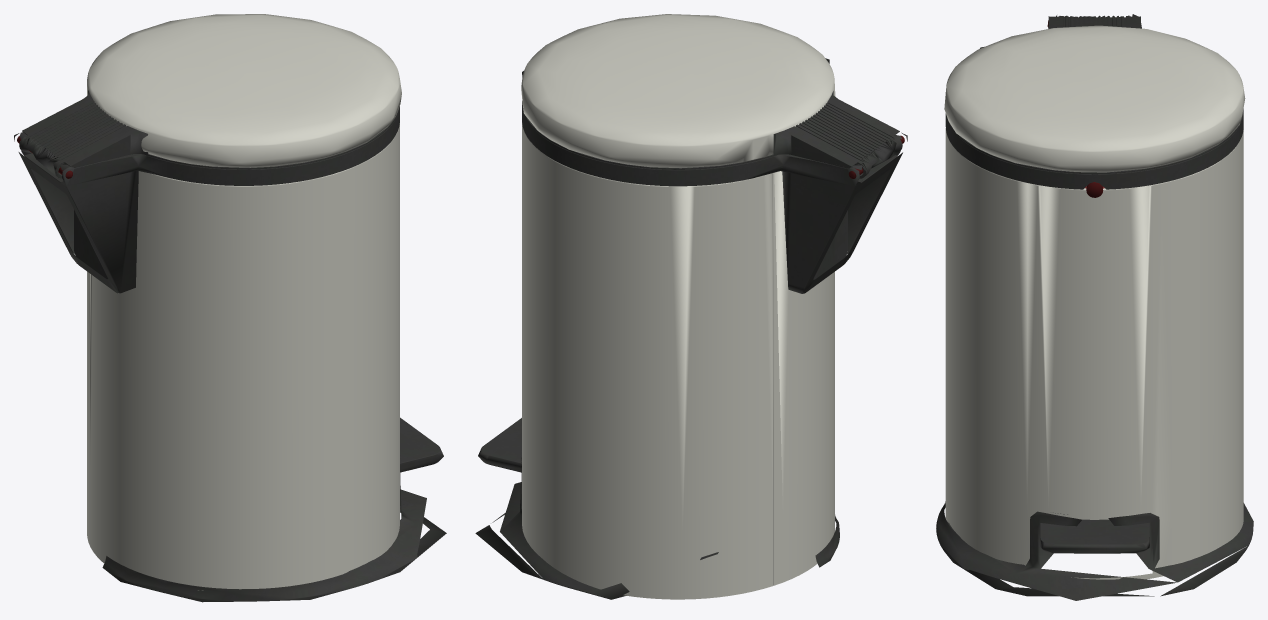
The model's file is bin_waste_a01.glb.
3 renders of one model, left to right at view 1: azimuth 30°, elevation 25°; view 2: azimuth 150°, elevation 25°; view 3: azimuth 270°, elevation 25°, orthographic. The views are drawn at different scales.
Parts seen in each view (by area): view 1: sm_bin_waste_a01_01; view 2: sm_bin_waste_a01_01; view 3: sm_bin_waste_a01_01.
Boxes of the visible parts, <box> form: sm_bin_waste_a01_01: <box>14,14,446,602</box>; sm_bin_waste_a01_01: <box>475,14,907,599</box>; sm_bin_waste_a01_01: <box>936,14,1253,600</box>.
Size of the model in its own units: 0.2389 by 0.28 by 0.1804.
Materials: 8 (4 with a texture image).
